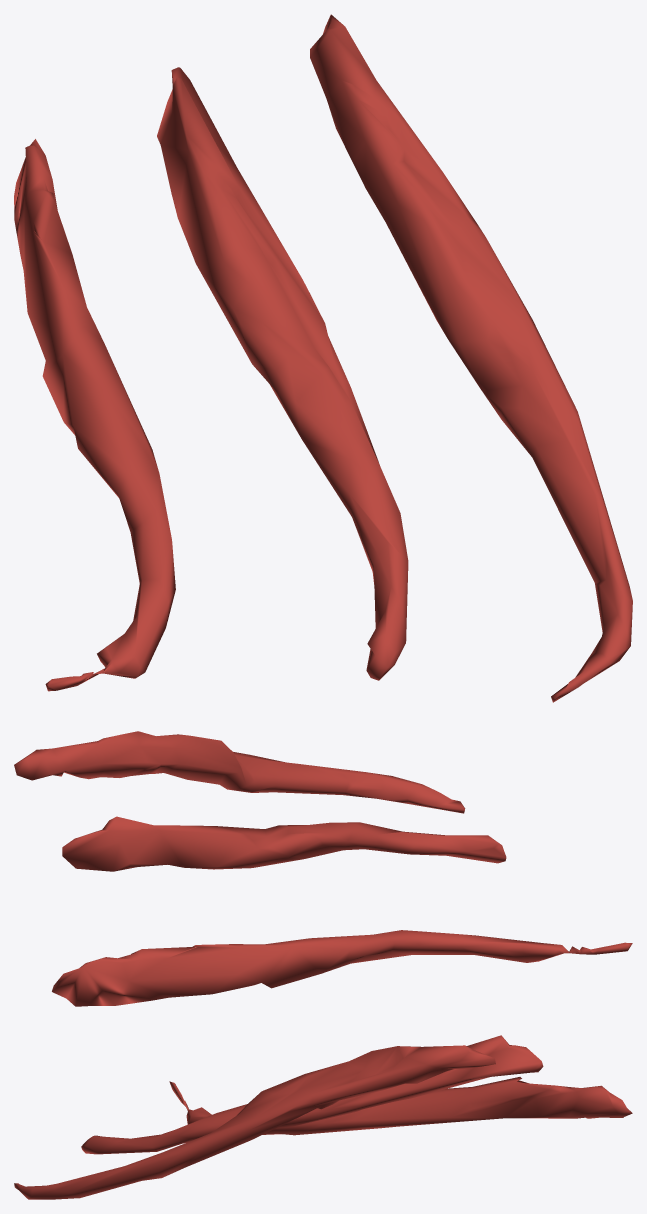
File: musculos-plantar-interossei-muscles-r.glb
3 views of the same model, one above another, from view 1: azimuth 30°, elevation 25°; view 2: azimuth 150°, elevation 25°; view 3: azimuth 270°, elevation 25° (orthographic). The views are drawn at different scales.
Visible parts, largest first — view 1: Plantar interossei muscles.r; view 2: Plantar interossei muscles.r; view 3: Plantar interossei muscles.r.
Part boxes in pixels (x1,y1,x2,y2): Plantar interossei muscles.r: [14, 14, 632, 702]; Plantar interossei muscles.r: [14, 731, 632, 1006]; Plantar interossei muscles.r: [14, 1035, 632, 1199].
Bounding box in the file's own units: 0.043 × 0.0263 × 0.0716.
